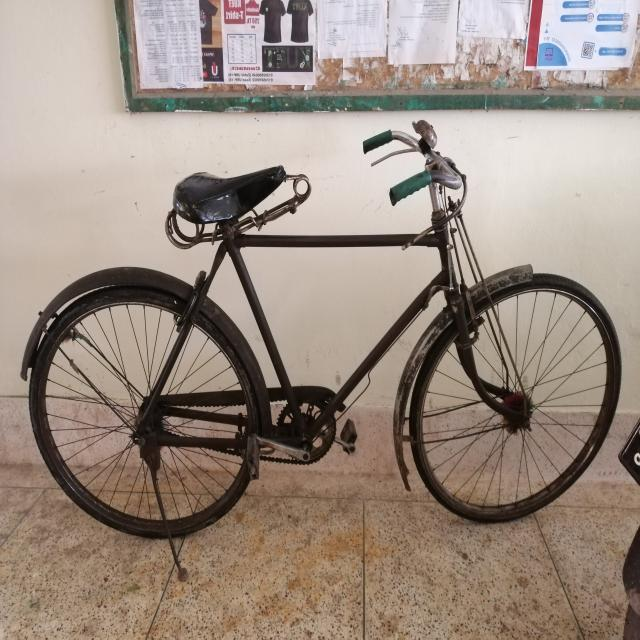Bicycle: (8, 124, 627, 585)
